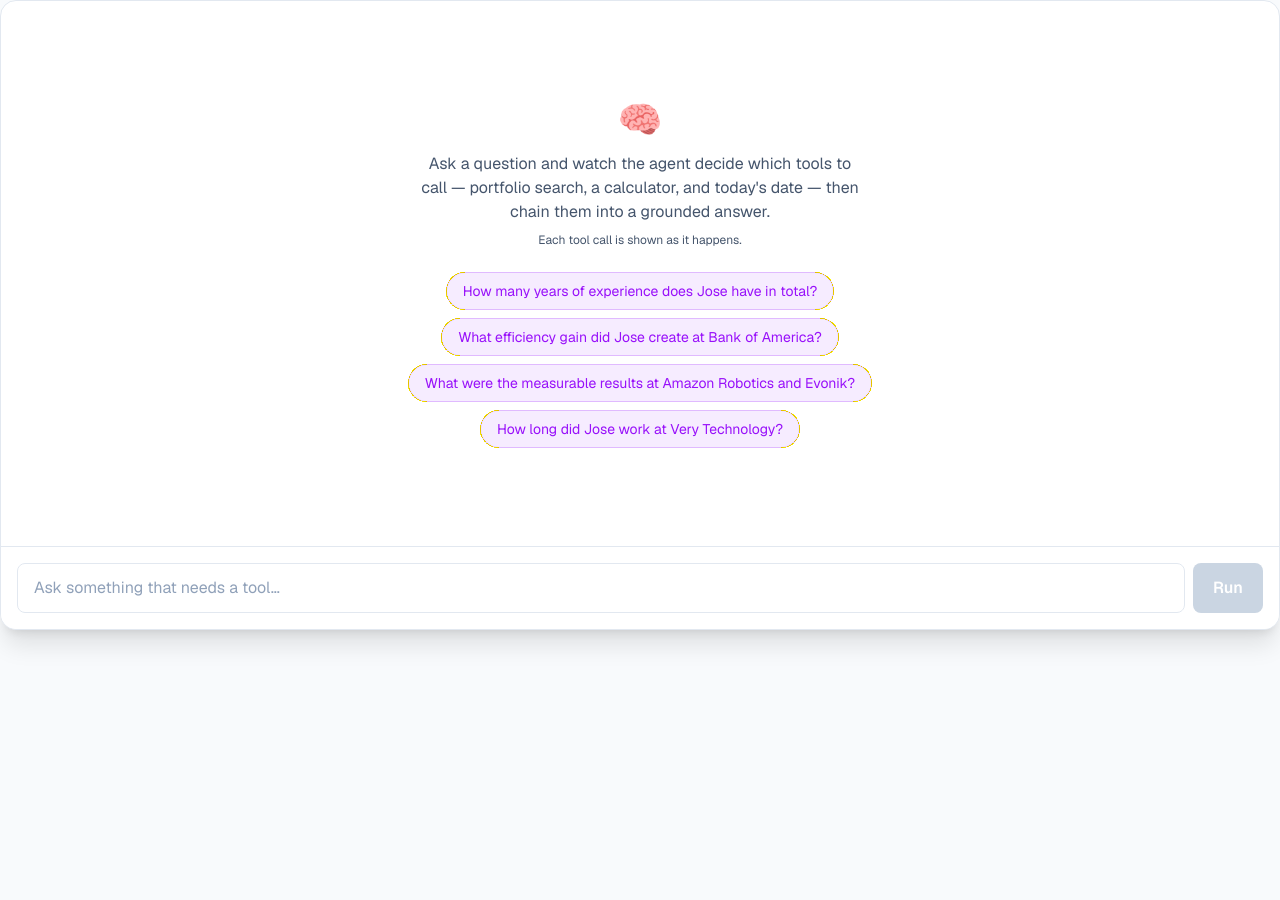
AgentDemo (streaming) › shows an error bubble when the backend returns an error
Click the button "What efficiency gain did Jose create at Bank of America?": (640, 336) [441,318,839,356]
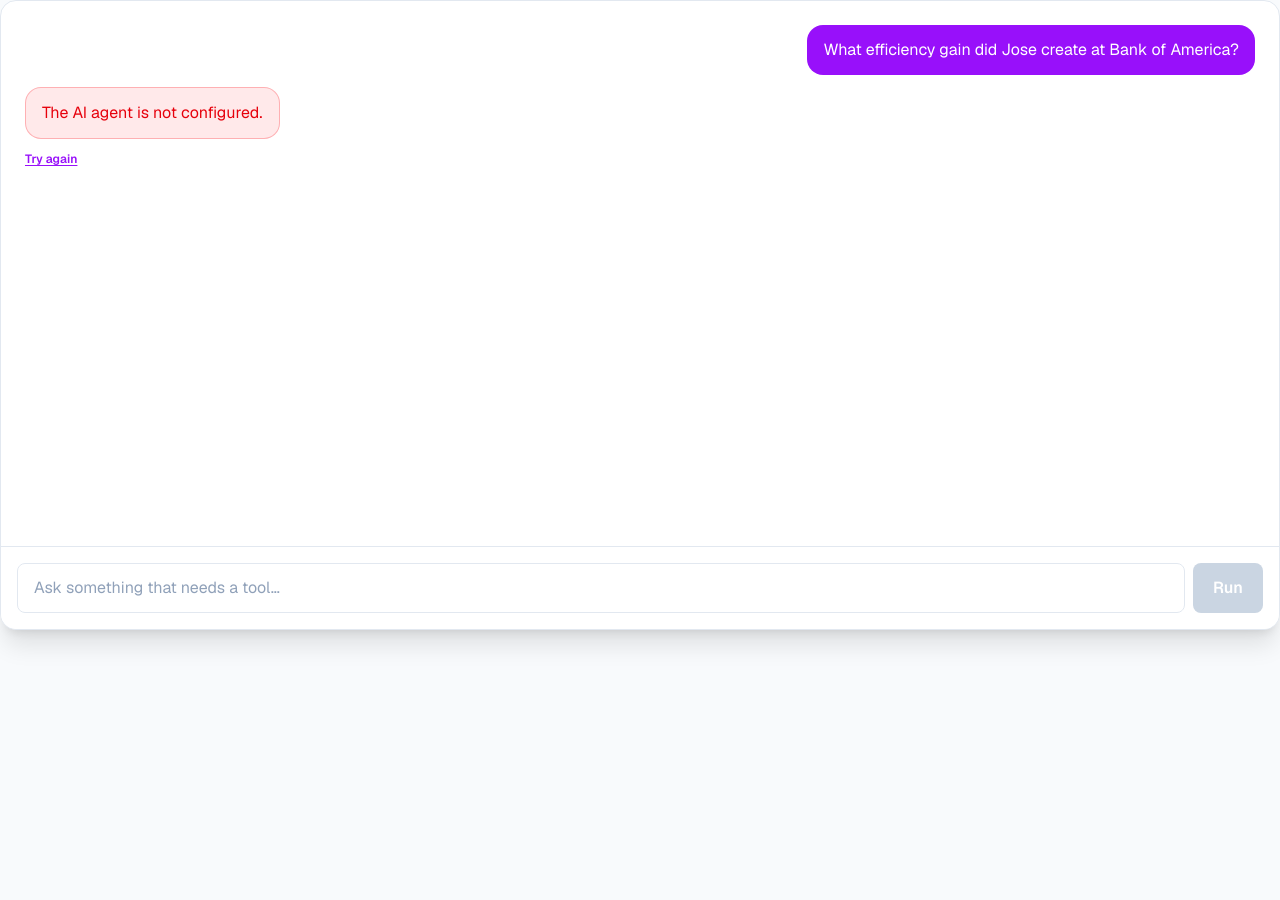
Now the text "The AI agent is not configured." is shown, box [42,100,262,126]
